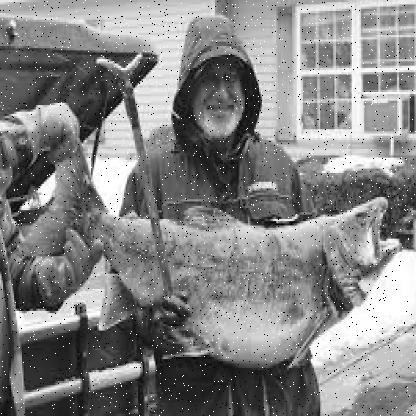fish: (23, 128, 400, 364)
